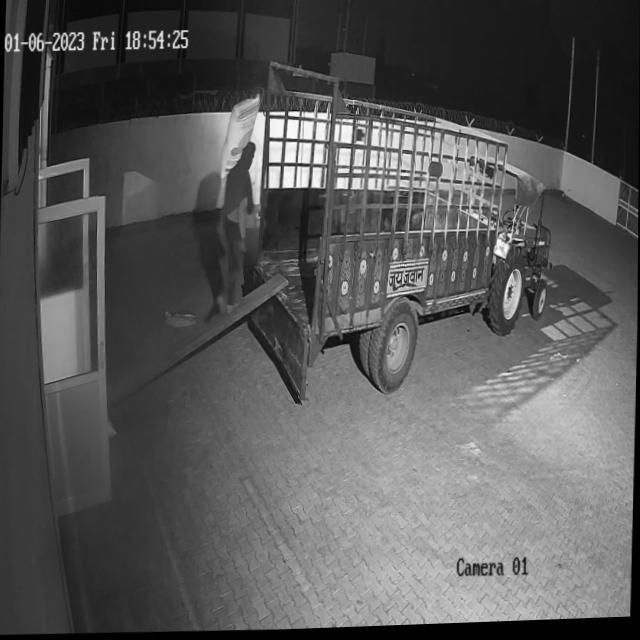sack: (219, 94, 259, 181)
